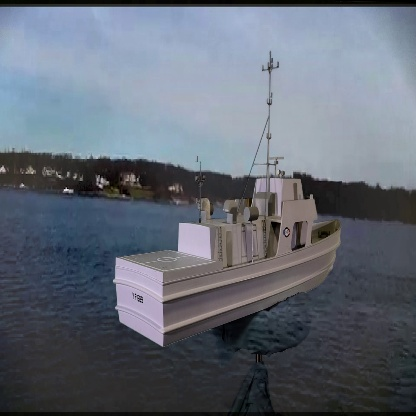YP689: (107, 46, 350, 349)
